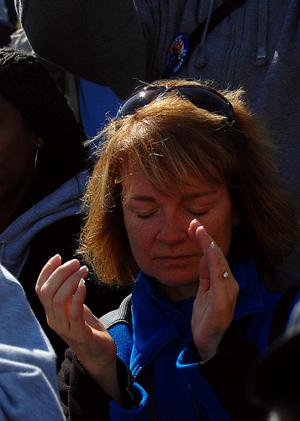person: (34, 81, 300, 421)
